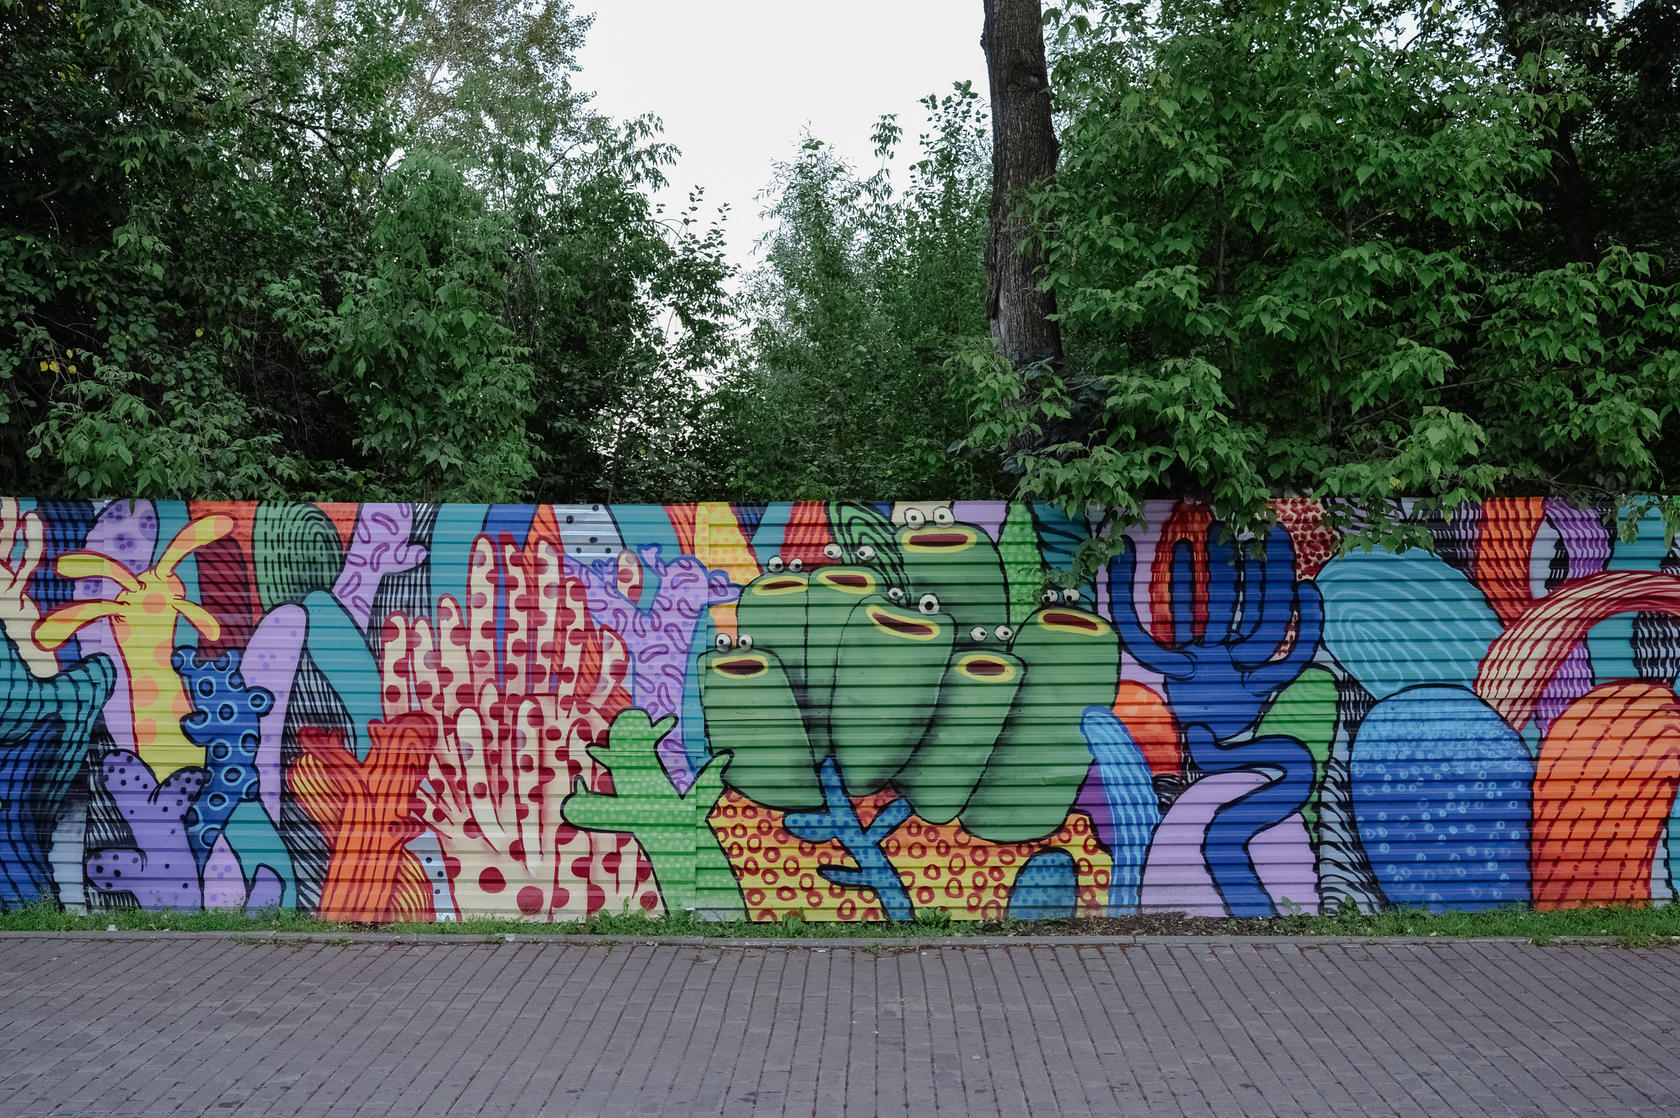graphite: (9, 503, 1680, 927)
